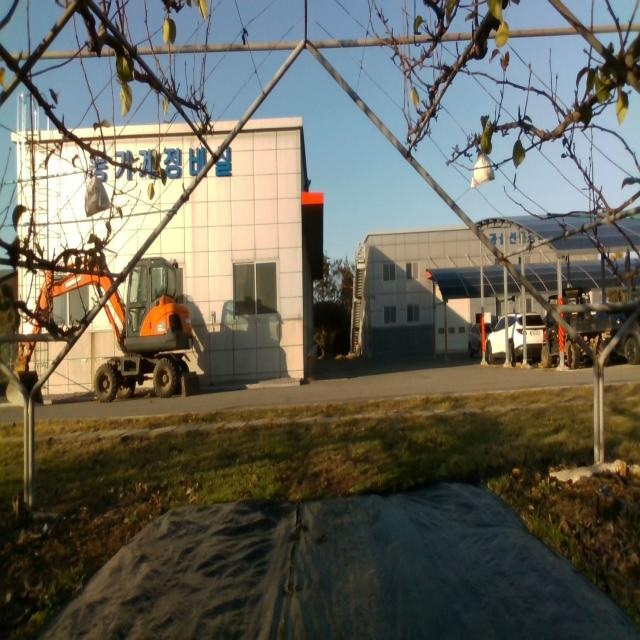pearbags: (83, 165, 111, 217), (471, 152, 496, 191)
